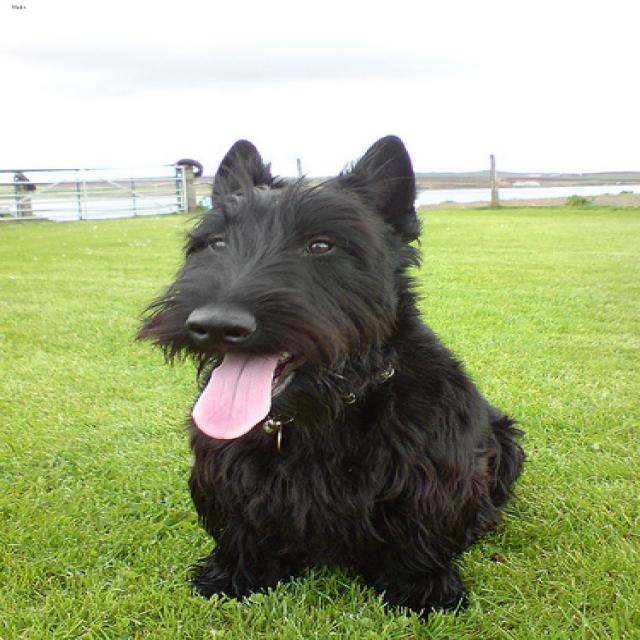dog-scottish_terrier: (119, 128, 546, 626)
